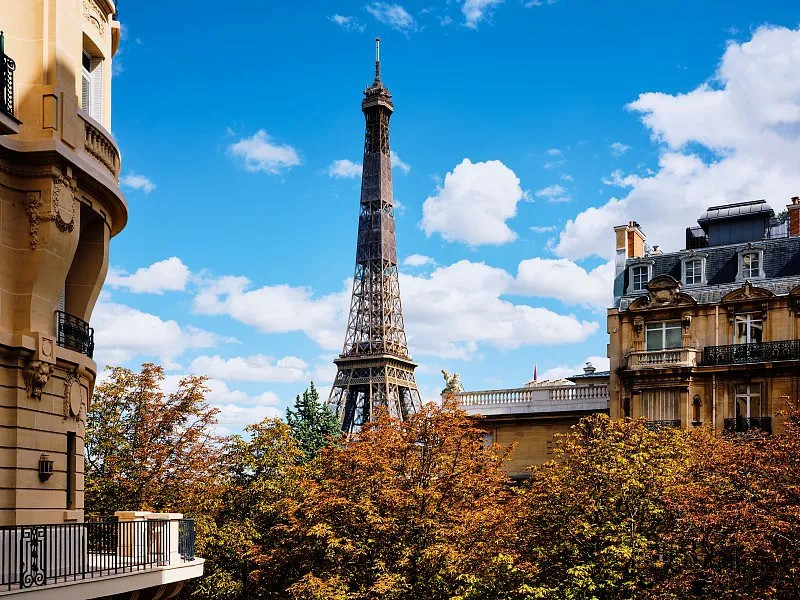Eiffel: (323, 40, 425, 443)
